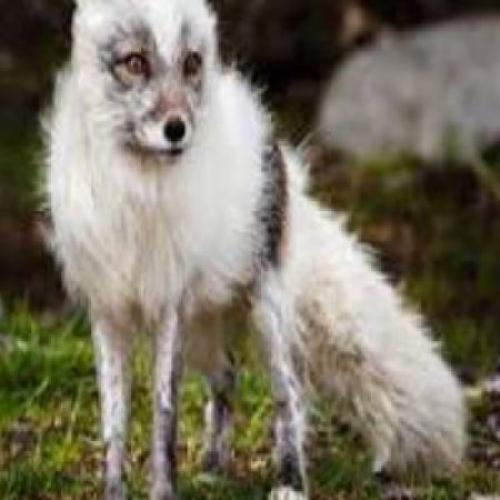arctic_fox-endangered: (47, 4, 461, 495)
